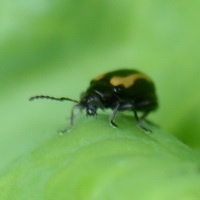insect: (29, 69, 157, 131)
